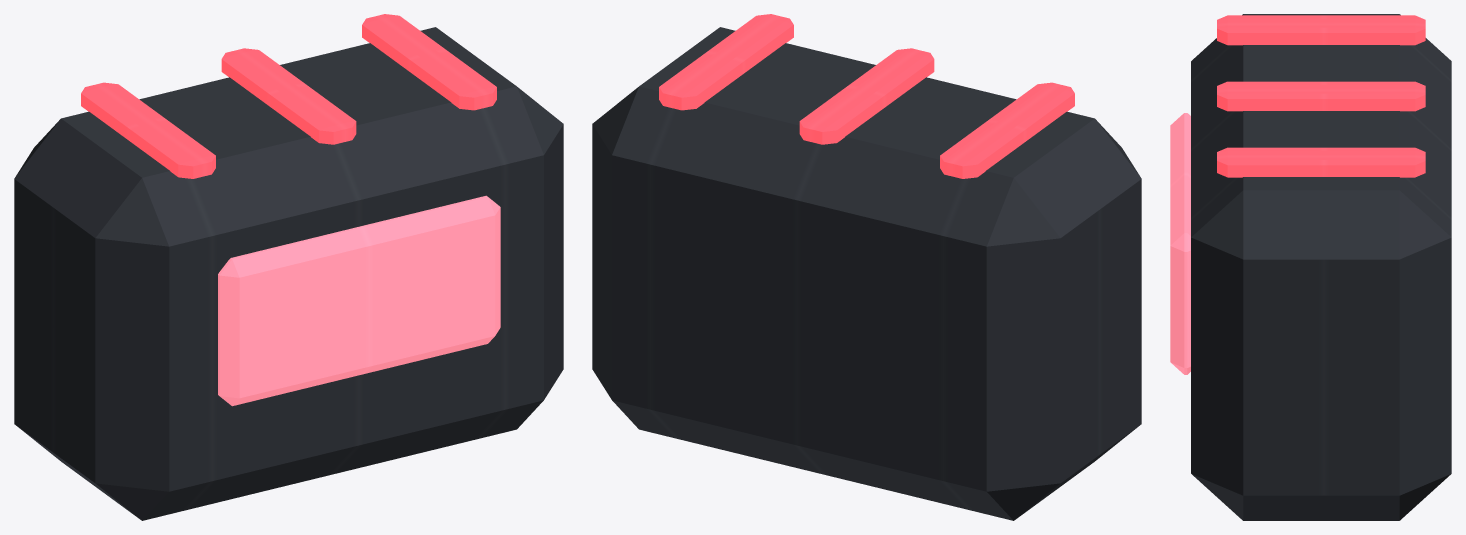
The model's file is gear_cloak.glb.
The picture shows the model from 3 angles, left to right: view 1: azimuth 30°, elevation 25°; view 2: azimuth 150°, elevation 25°; view 3: azimuth 270°, elevation 25°; orthographic projection. The views are drawn at different scales.
Visible parts, largest first — view 1: Cloak_Module, Cloak_Lens, Cloak_Fin1, Cloak_Fin2, Cloak_Fin0; view 2: Cloak_Module, Cloak_Fin1, Cloak_Fin2, Cloak_Fin0; view 3: Cloak_Module, Cloak_Fin0, Cloak_Fin1, Cloak_Fin2, Cloak_Lens.
Part boxes in pixels (x1,y1,x2,y2): Cloak_Module: (14, 27, 563, 520); Cloak_Lens: (218, 195, 500, 406); Cloak_Fin1: (221, 48, 356, 144); Cloak_Fin2: (362, 14, 496, 110); Cloak_Fin0: (81, 82, 215, 178); Cloak_Module: (592, 27, 1141, 520); Cloak_Fin1: (799, 48, 934, 144); Cloak_Fin2: (659, 14, 793, 110); Cloak_Fin0: (940, 82, 1074, 178); Cloak_Module: (1191, 14, 1451, 520); Cloak_Fin0: (1217, 15, 1425, 45); Cloak_Fin1: (1217, 81, 1425, 111); Cloak_Fin2: (1217, 147, 1425, 177); Cloak_Lens: (1170, 113, 1190, 374).
Size of the model in its own units: 0.1 by 0.0727 by 0.054.
Materials: 3 (3 with a texture image).
